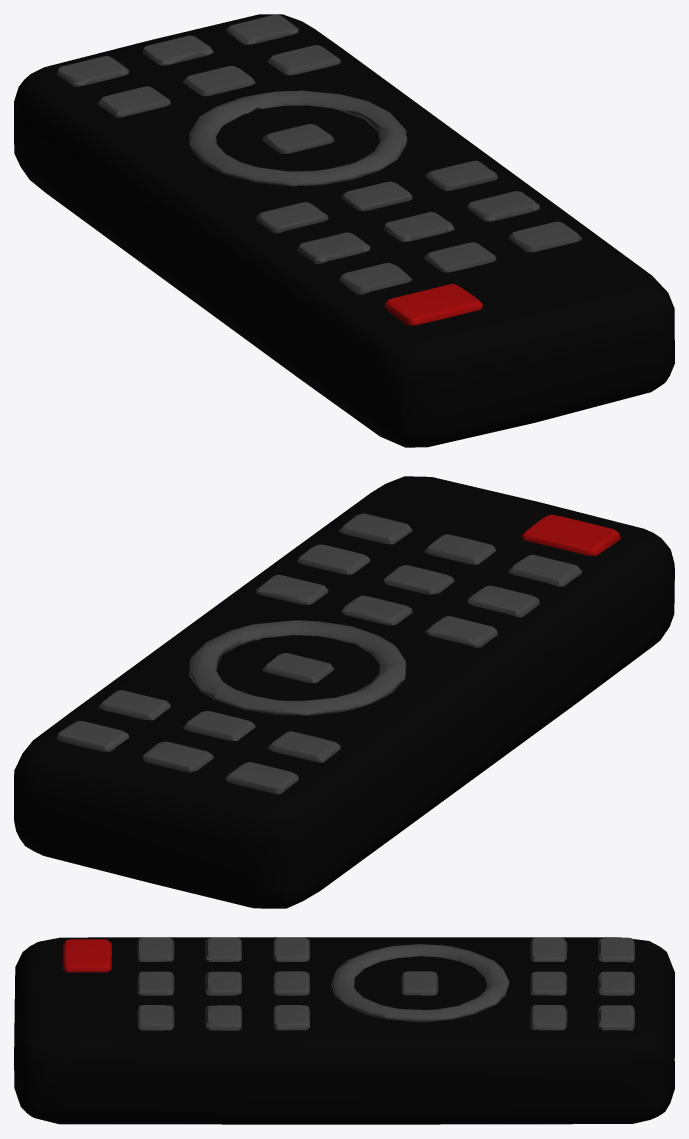
Rendered from RemoteControl.fbx.
3 views of the same model, one above another, from view 1: azimuth 30°, elevation 25°; view 2: azimuth 150°, elevation 25°; view 3: azimuth 270°, elevation 25° (orthographic). The views are drawn at different scales.
Visible parts, largest first — view 1: RemoteControl 1; view 2: RemoteControl 1; view 3: RemoteControl 1.
Part boxes in pixels (box(x1,y1,x2,y2)): RemoteControl 1: box(14, 14, 674, 447); RemoteControl 1: box(14, 476, 674, 908); RemoteControl 1: box(14, 937, 674, 1124).
Bounding box in the file's own units: 5.55 × 2.21 × 13.19.
